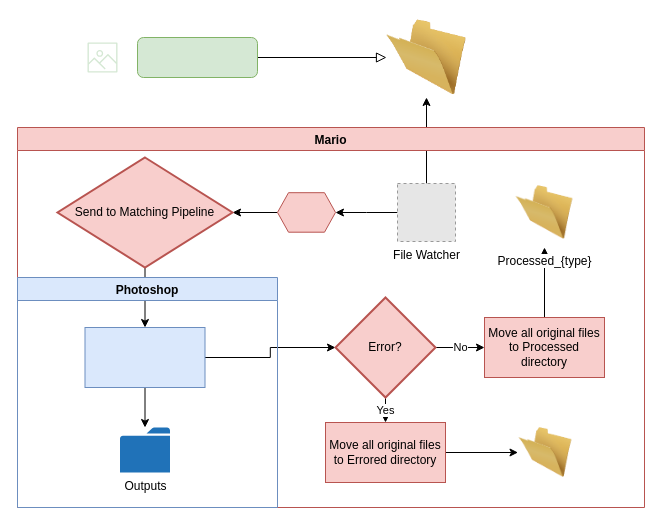
Image size: 662x525. Some labels were removed from this diagram. Grey dashed boxes stand in for pictures. The shapes that lost their labels are listed below. From the top down, each one's centre as x and y in pixels, then its label:
[197,57]: Input JSON
[306,212]: Read JSON & Package Create IMAGE instance
[144,357]: Run JSX Actions on IMAGE
[545,452]: Errored_{type}
